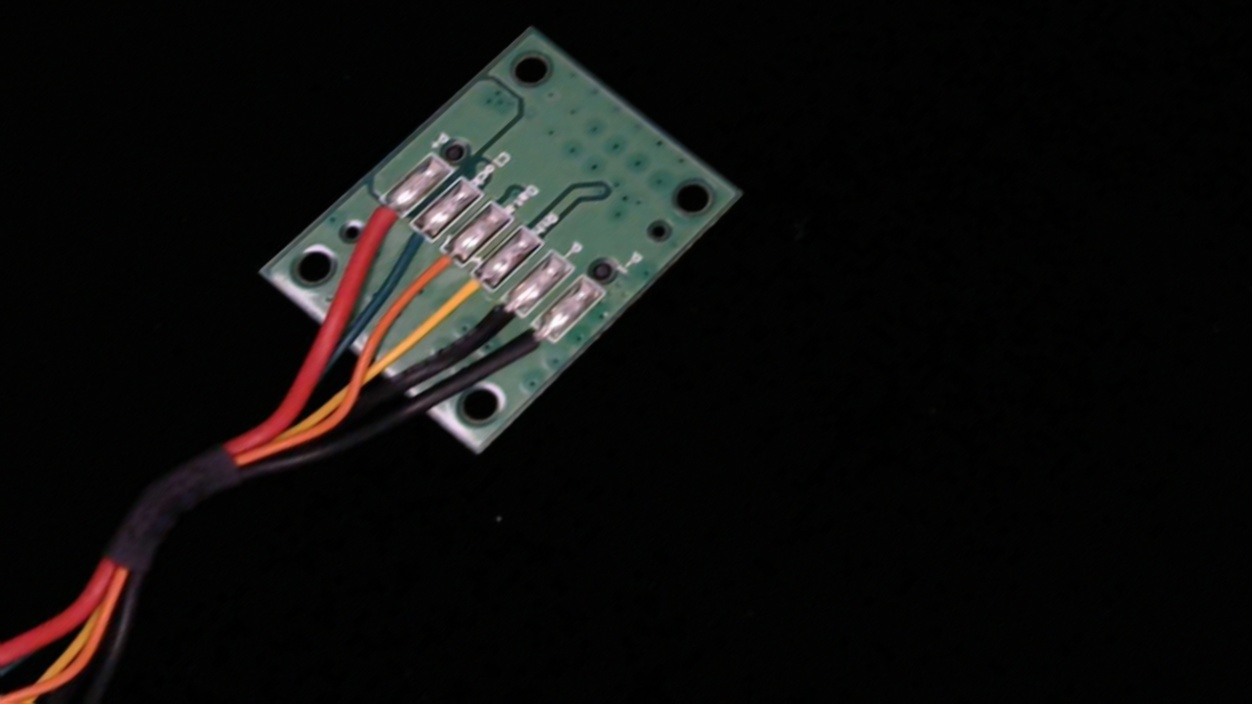Black: (463, 285, 541, 352)
Black1: (494, 310, 571, 379)
Green: (371, 209, 451, 276)
Orange: (393, 234, 479, 307)
Red: (337, 185, 423, 257)
Yellow: (429, 261, 509, 331)
